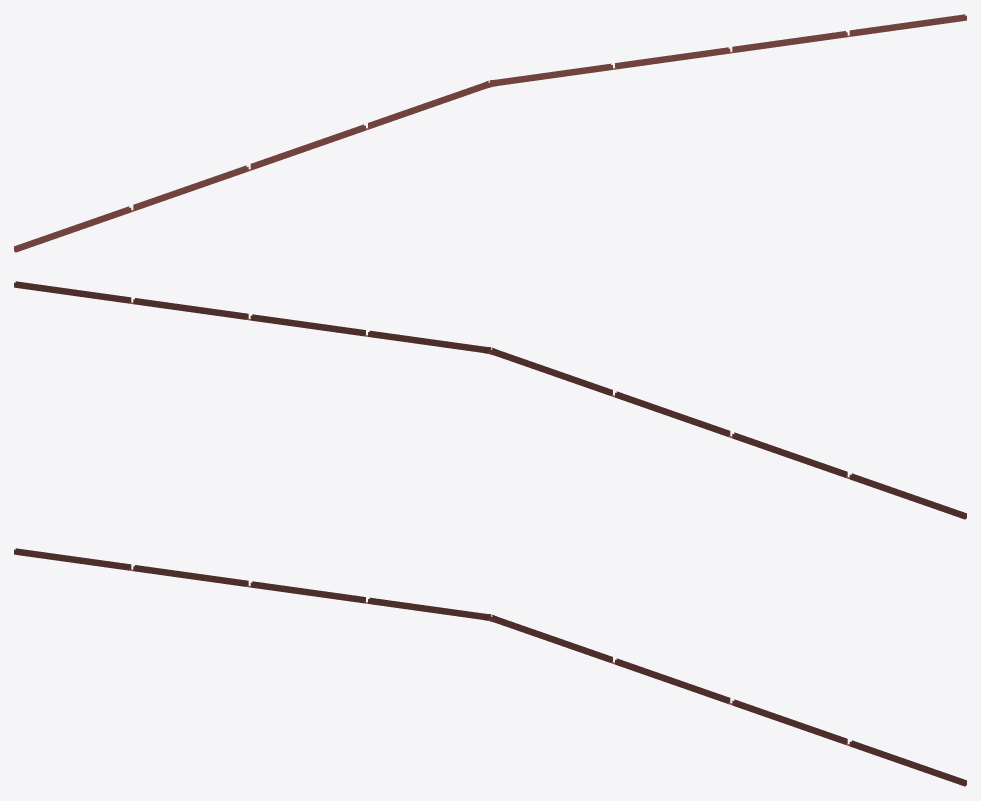
File: Beam_Large.fbx
The picture shows the model from 3 angles, top to bottom: view 1: azimuth 30°, elevation 25°; view 2: azimuth 150°, elevation 25°; view 3: azimuth 330°, elevation 25°; orthographic projection.
Visible parts, largest first — view 1: Beam_Large; view 2: Beam_Large; view 3: Beam_Large.
Boxes of the visible parts, x1,y1,x2,y2 form: Beam_Large: (14,14,966,252); Beam_Large: (14,281,966,519); Beam_Large: (14,548,966,786).
Size of the model in its own units: 15000 by 824 by 68.9.
